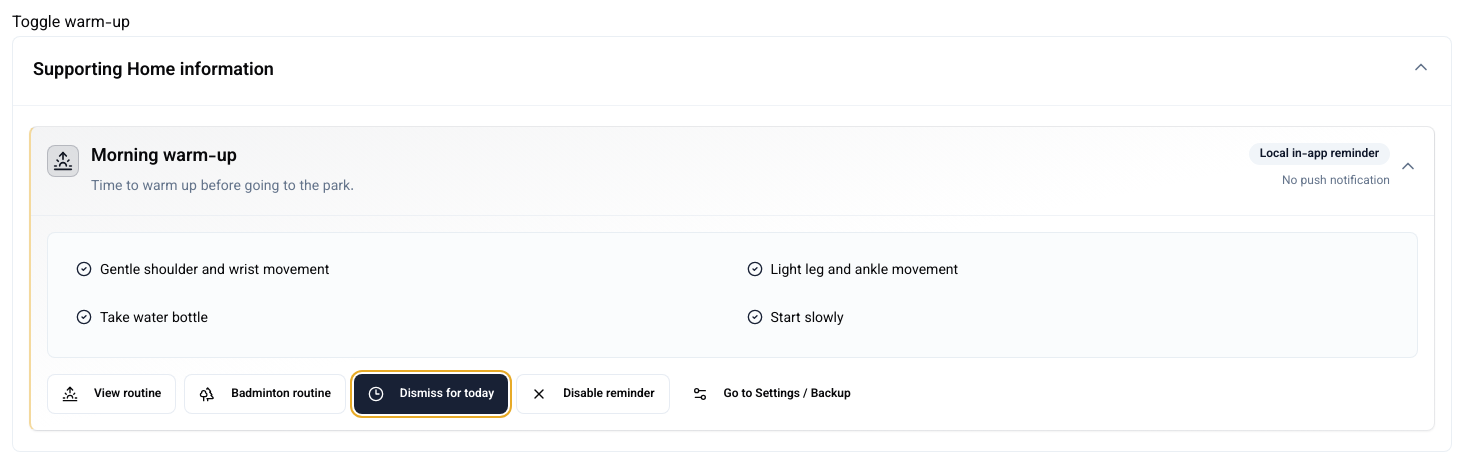
Test: restored Home warm-up connection › returns focus to the parent before dismiss removes the focused card
Step 1. Click the button "Dismiss for today" → (431, 394), box [354, 374, 508, 414]
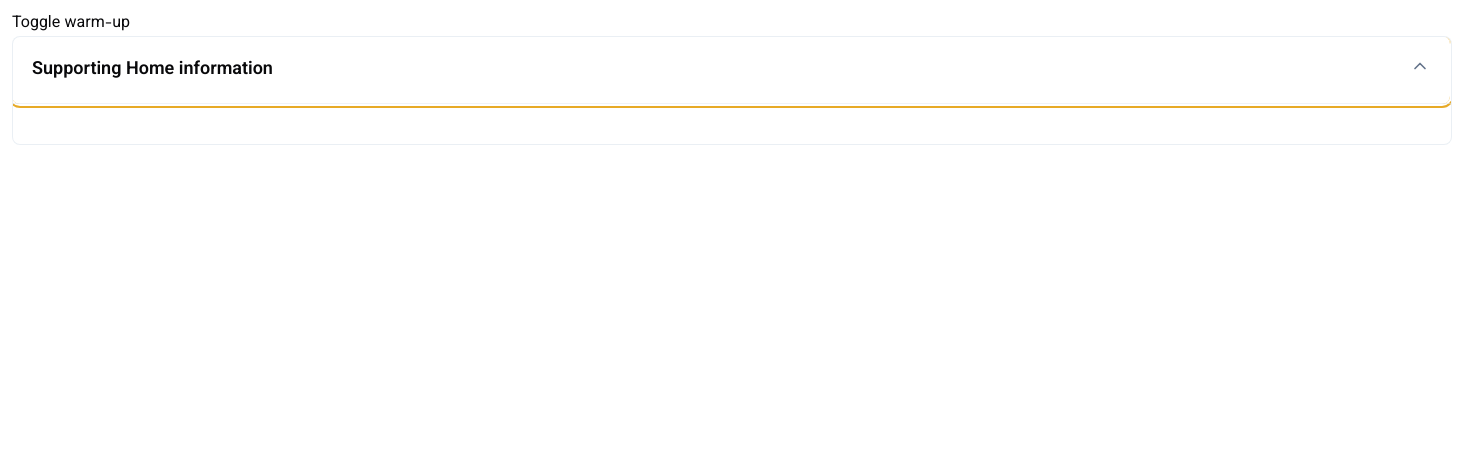
expect the element with id "warmup-test" is gone: met
